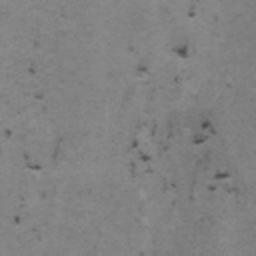Oxide scale of temperature system: (124, 116, 241, 206), (138, 40, 189, 83), (19, 134, 67, 172), (187, 4, 197, 18), (29, 91, 44, 100), (3, 128, 13, 141), (14, 214, 22, 225), (28, 67, 37, 76), (138, 250, 146, 256)
